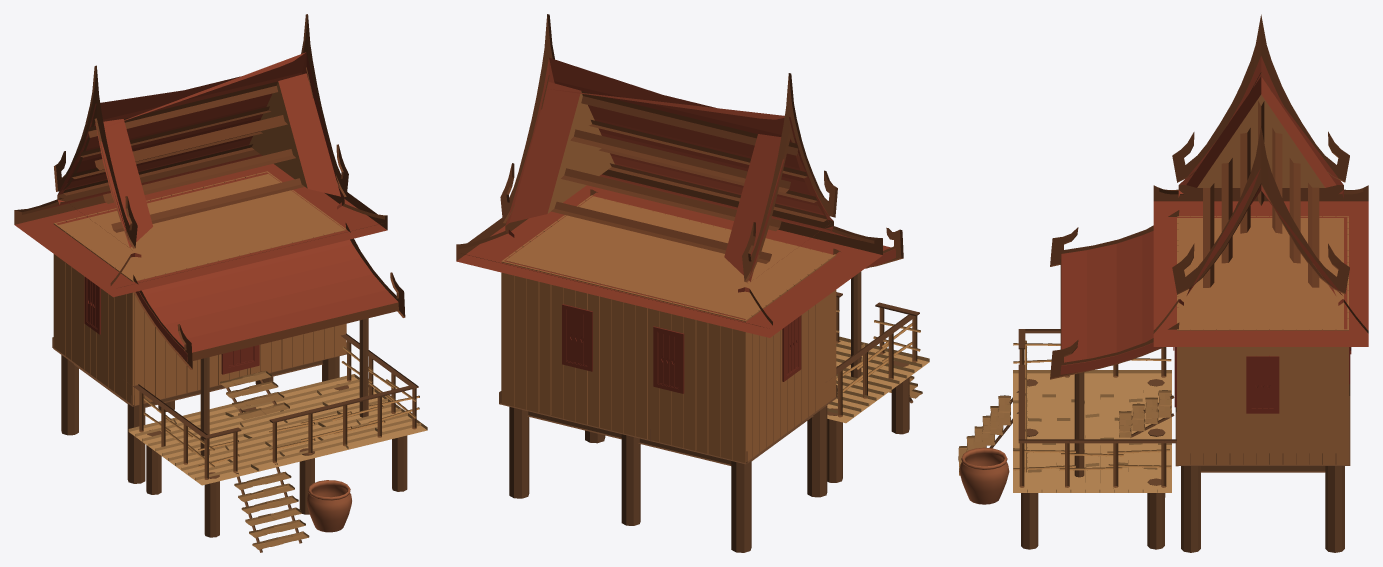
The model's file is thai_house2.glb.
3 views of the same model, side by side, from view 1: azimuth 30°, elevation 25°; view 2: azimuth 150°, elevation 25°; view 3: azimuth 270°, elevation 25° (orthographic). The views are drawn at different scales.
Parts seen in each view (by area): view 1: thai_house2; view 2: thai_house2; view 3: thai_house2.
Part boxes in pixels (x1=…): thai_house2: x1=14, y1=14, x2=427, y2=552; thai_house2: x1=456, y1=14, x2=929, y2=552; thai_house2: x1=958, y1=14, x2=1368, y2=552.
Size of the model in its own units: 6.24 by 8.58 by 7.43.
